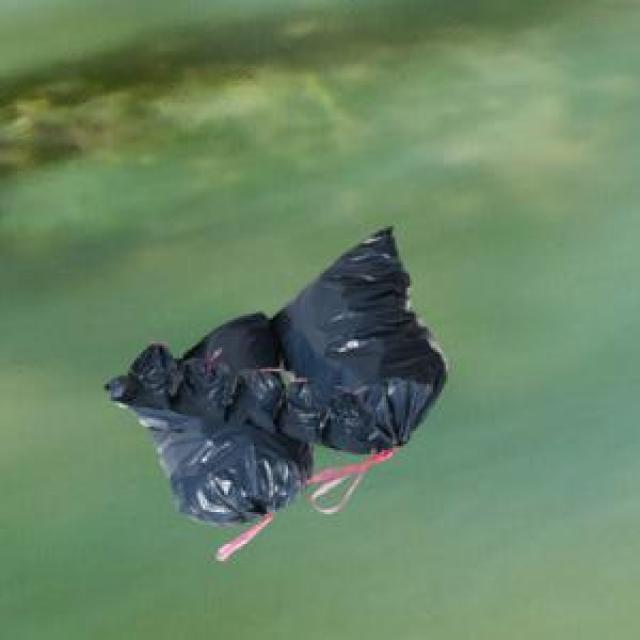waste: (108, 228, 445, 521)
